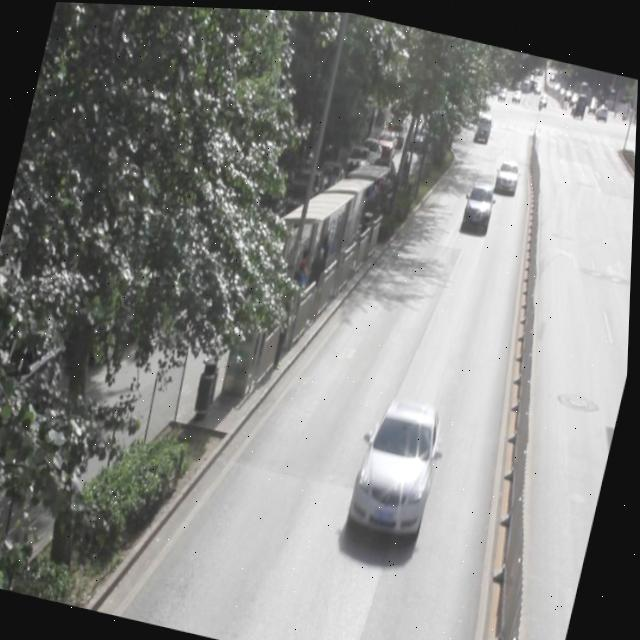car: (348, 388, 449, 542), (461, 177, 496, 229), (493, 153, 522, 190)
